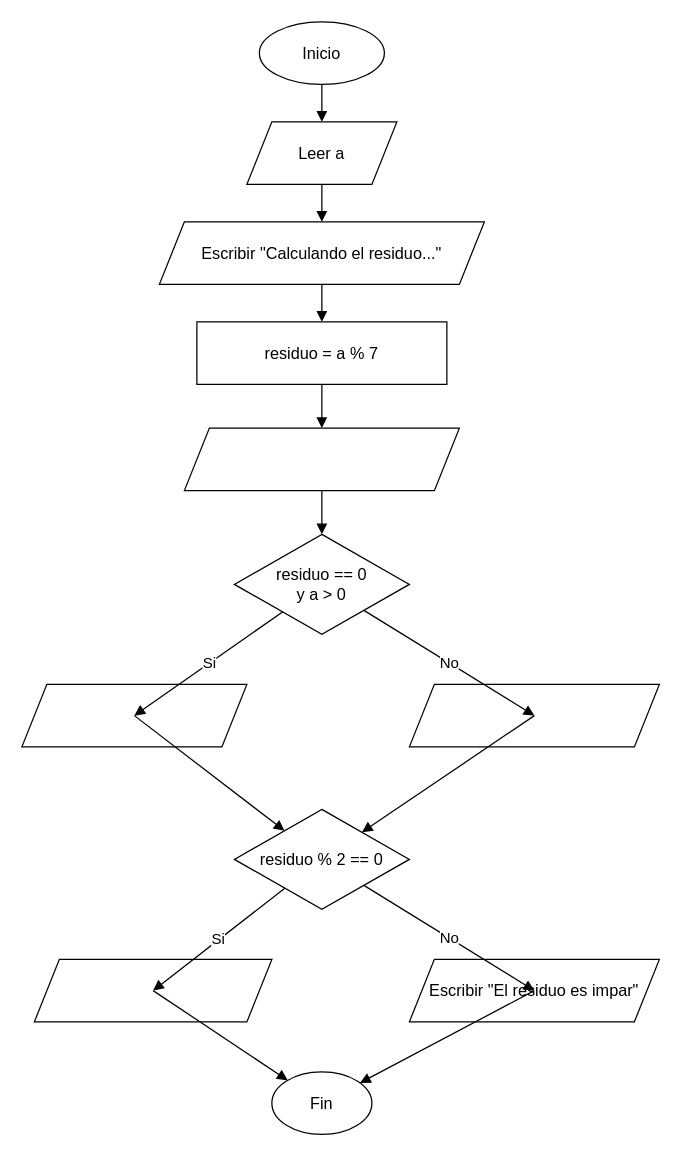
Some shapes in this 681 by 1156 pixel diagram are drawn without their labels. Here are the shapes that lost their labels. From the top down, the centre of each, then its label:
[321,459]: Escribir "Residuo: ", residuo
[134,715]: Escribir "Es multiplo de 7"
[533,715]: Escribir "No es multiplo de 7"
[152,990]: Escribir "El residuo es par"
